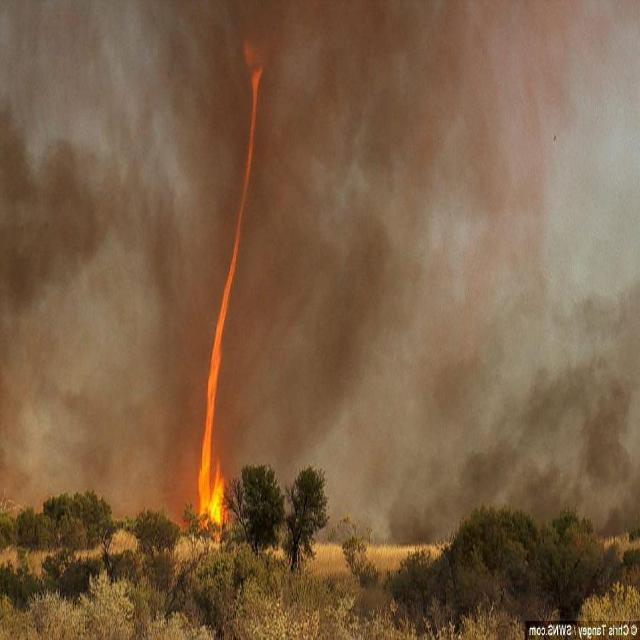Fire: (198, 65, 270, 513)
